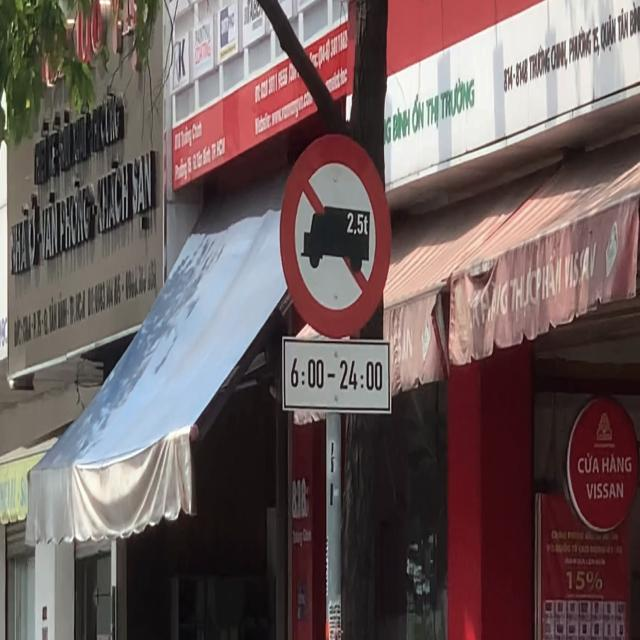Cam con lai: (278, 126, 398, 332)
